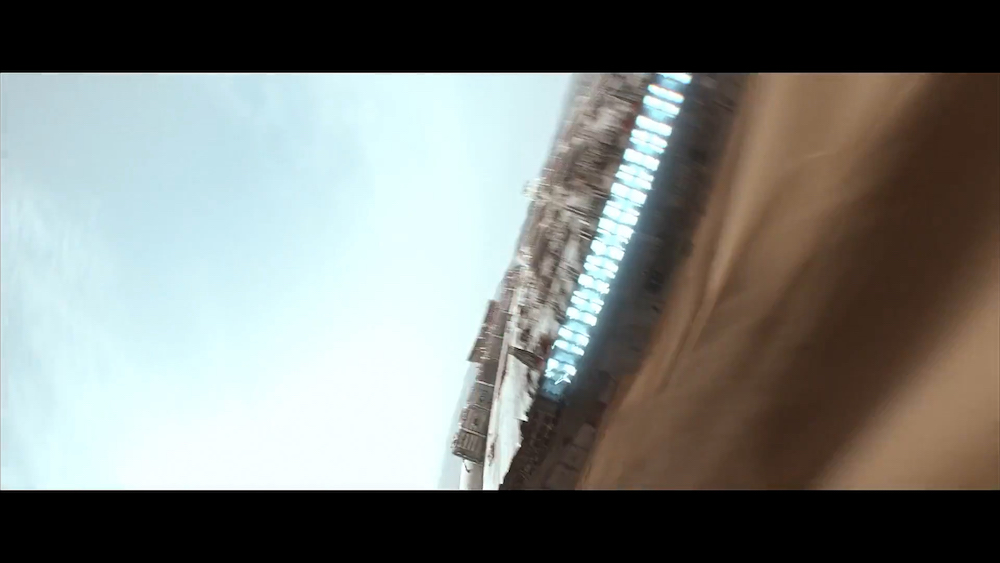Millennium Falcon: (453, 75, 751, 489)
